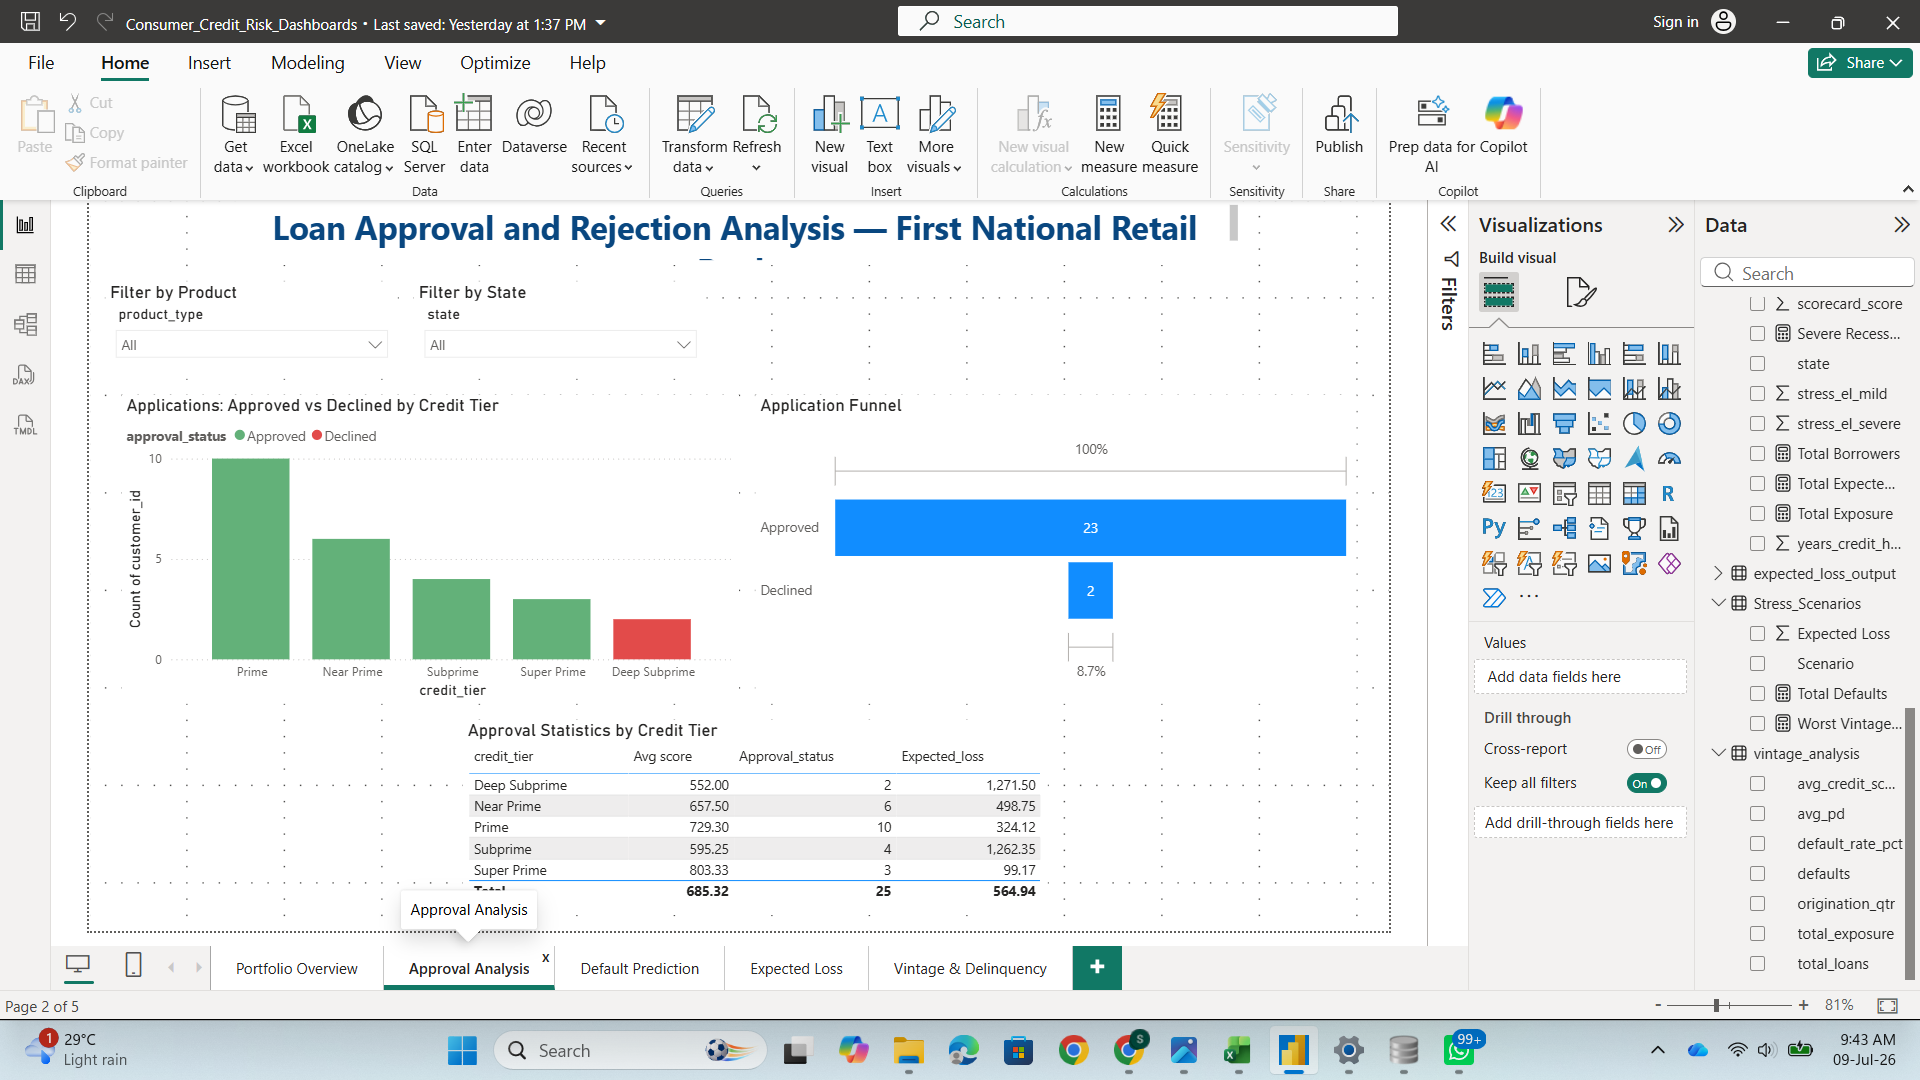

Layout of this report page (visuals, bound fields, positions):
{"tool":"powerbi","page":{"name":"Approval Analysis","canvas":[1280,720],"ordinal":1},"visuals":[{"type":"textbox","box":[144,0,992,64],"z":0},{"type":"slicer","title":"Filter by Product","fields":{"Values":["borrowers_data.product_type"]},"box":[16,80,288,96],"z":1000},{"type":"slicer","title":"Filter by State","fields":{"Values":["borrowers_data.state"]},"box":[320,80,288,96],"z":2000},{"type":"columnChart","title":"Applications: Approved vs Declined by Credit Tier","fields":{"Category":["borrowers_data.credit_tier"],"Y":["CountNonNull(borrowers_data.customer_id)"],"Series":["borrowers_data.approval_status"]},"box":[32,192,608,304],"z":3000},{"type":"funnel","title":"Application Funnel","fields":{"Category":["borrowers_data.approval_status"],"Y":["CountNonNull(borrowers_data.customer_id)"]},"box":[656,192,592,304],"z":4000},{"type":"tableEx","title":"Approval Statistics by Credit Tier","fields":{"Values":["borrowers_data.credit_tier","Avg(borrowers_data.credit_score)","borrowers_data.approval_status","Avg(borrowers_data.expected_loss)"]},"box":[368,512,576,192],"z":5000}]}

Visuals, with their boxes on the page's 1280x720 design canvas (x1, y1, x2, y2). These are canvas units, not pixel positions in the 1920x1080 screenshot, which may show the page scaled, cropped or inside an application window:
textbox: [left=144, top=0, right=1136, bottom=64]
"Filter by Product" slicer: [left=16, top=80, right=304, bottom=176]
"Filter by State" slicer: [left=320, top=80, right=608, bottom=176]
"Applications: Approved vs Declined by Credit Tier" columnChart: [left=32, top=192, right=640, bottom=496]
"Application Funnel" funnel: [left=656, top=192, right=1248, bottom=496]
"Approval Statistics by Credit Tier" tableEx: [left=368, top=512, right=944, bottom=704]
